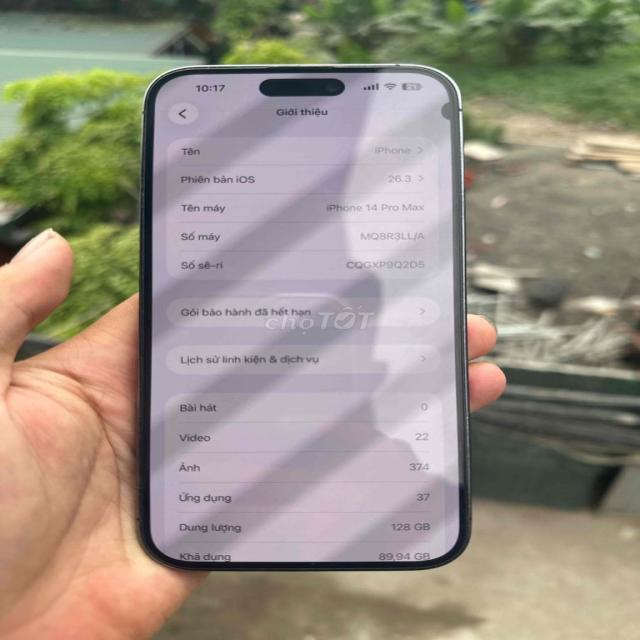screen_defect: (431, 91, 470, 130)
